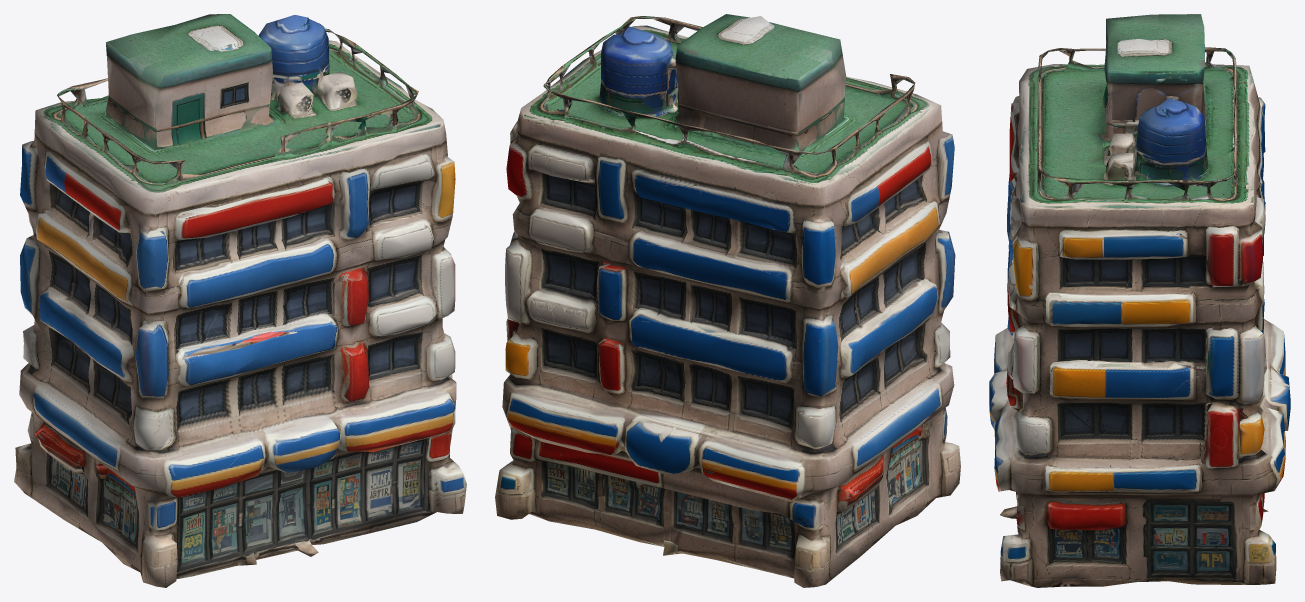
File: KR_Sangga_01.glb
The picture shows the model from 3 angles, left to right: view 1: azimuth 30°, elevation 25°; view 2: azimuth 150°, elevation 25°; view 3: azimuth 270°, elevation 25°; orthographic projection. The views are drawn at different scales.
Visible parts, largest first — view 1: texture_mapping; view 2: texture_mapping; view 3: texture_mapping.
Boxes of the visible parts, x1,y1,x2,y2 form: texture_mapping: (14,14,466,587); texture_mapping: (495,14,960,587); texture_mapping: (989,14,1290,587).
Size of the model in its own units: 0.7391 by 1 by 0.5902.
1 material, 1 textured.
